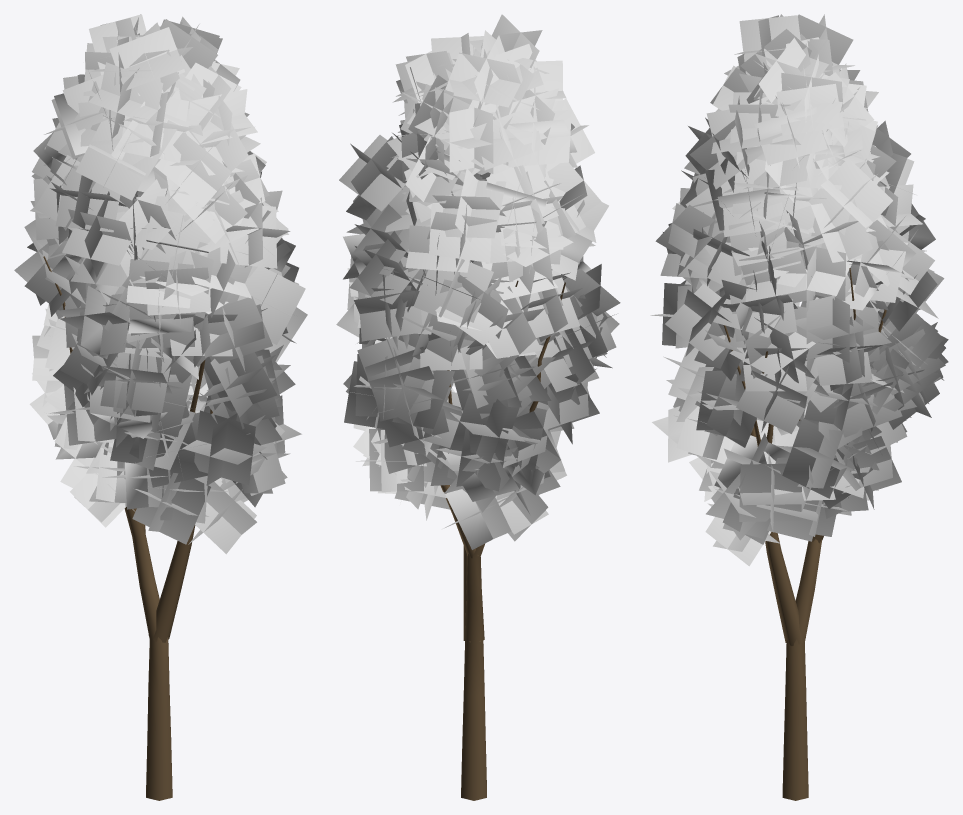
The model's file is tree 4.fbx.
3 views of the same model, side by side, from view 1: azimuth 30°, elevation 25°; view 2: azimuth 150°, elevation 25°; view 3: azimuth 270°, elevation 25° (orthographic).
Visible parts, largest first — view 1: leafafsafsafa.043, tree.004; view 2: leafafsafsafa.043, tree.004; view 3: leafafsafsafa.043, tree.004.
Boxes of the visible parts, box(x1,y1,x2,y2) form: leafafsafsafa.043: box(14, 14, 307, 554); tree.004: box(43, 256, 212, 800); leafafsafsafa.043: box(336, 14, 620, 549); tree.004: box(440, 280, 565, 800); leafafsafsafa.043: box(650, 14, 948, 566); tree.004: box(723, 268, 886, 800).
Bounding box in the file's own units: 320 × 953 × 337.
